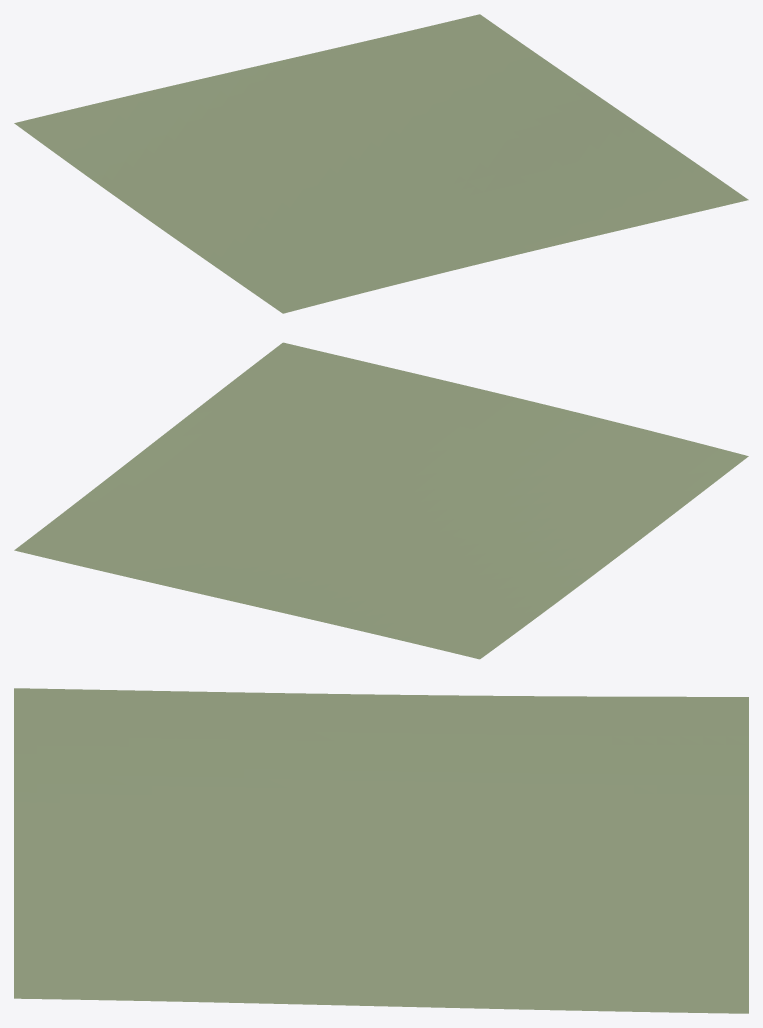
File: expanse-20-30.glb
The picture shows the model from 3 angles, top to bottom: view 1: azimuth 30°, elevation 25°; view 2: azimuth 150°, elevation 25°; view 3: azimuth 270°, elevation 25°; orthographic projection. The views are drawn at different scales.
Parts seen in each view (by area): view 1: expanse-20-30; view 2: expanse-20-30; view 3: expanse-20-30.
Boxes of the visible parts, x1,y1,x2,y2 form: expanse-20-30: [14, 14, 748, 313]; expanse-20-30: [14, 342, 748, 659]; expanse-20-30: [14, 688, 748, 1013].
Size of the model in its own units: 256 by 6.74 by 256.
